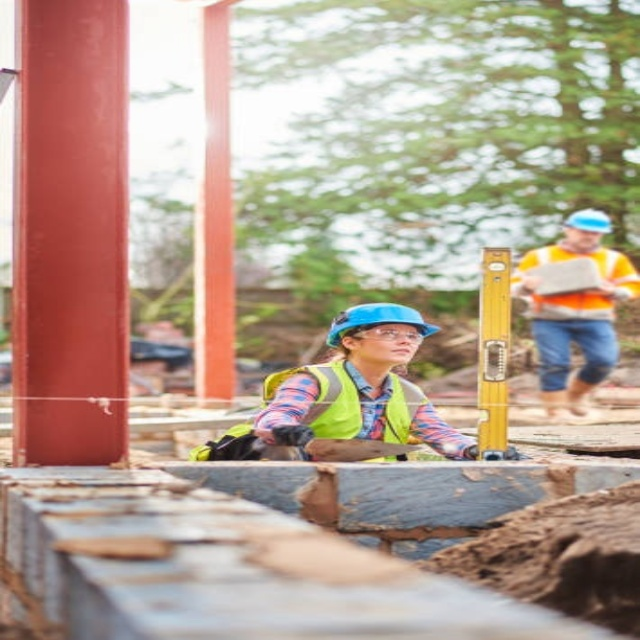Gafas: (353, 326, 425, 344)
Guantes: (267, 420, 321, 448)
Sin_mascara: (384, 345, 415, 360)
